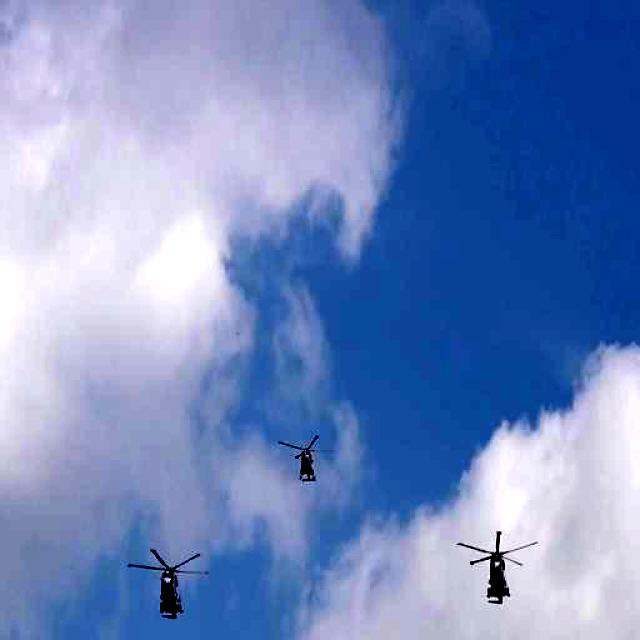drone: (455, 528, 542, 608), (126, 544, 211, 625), (276, 432, 344, 488)
